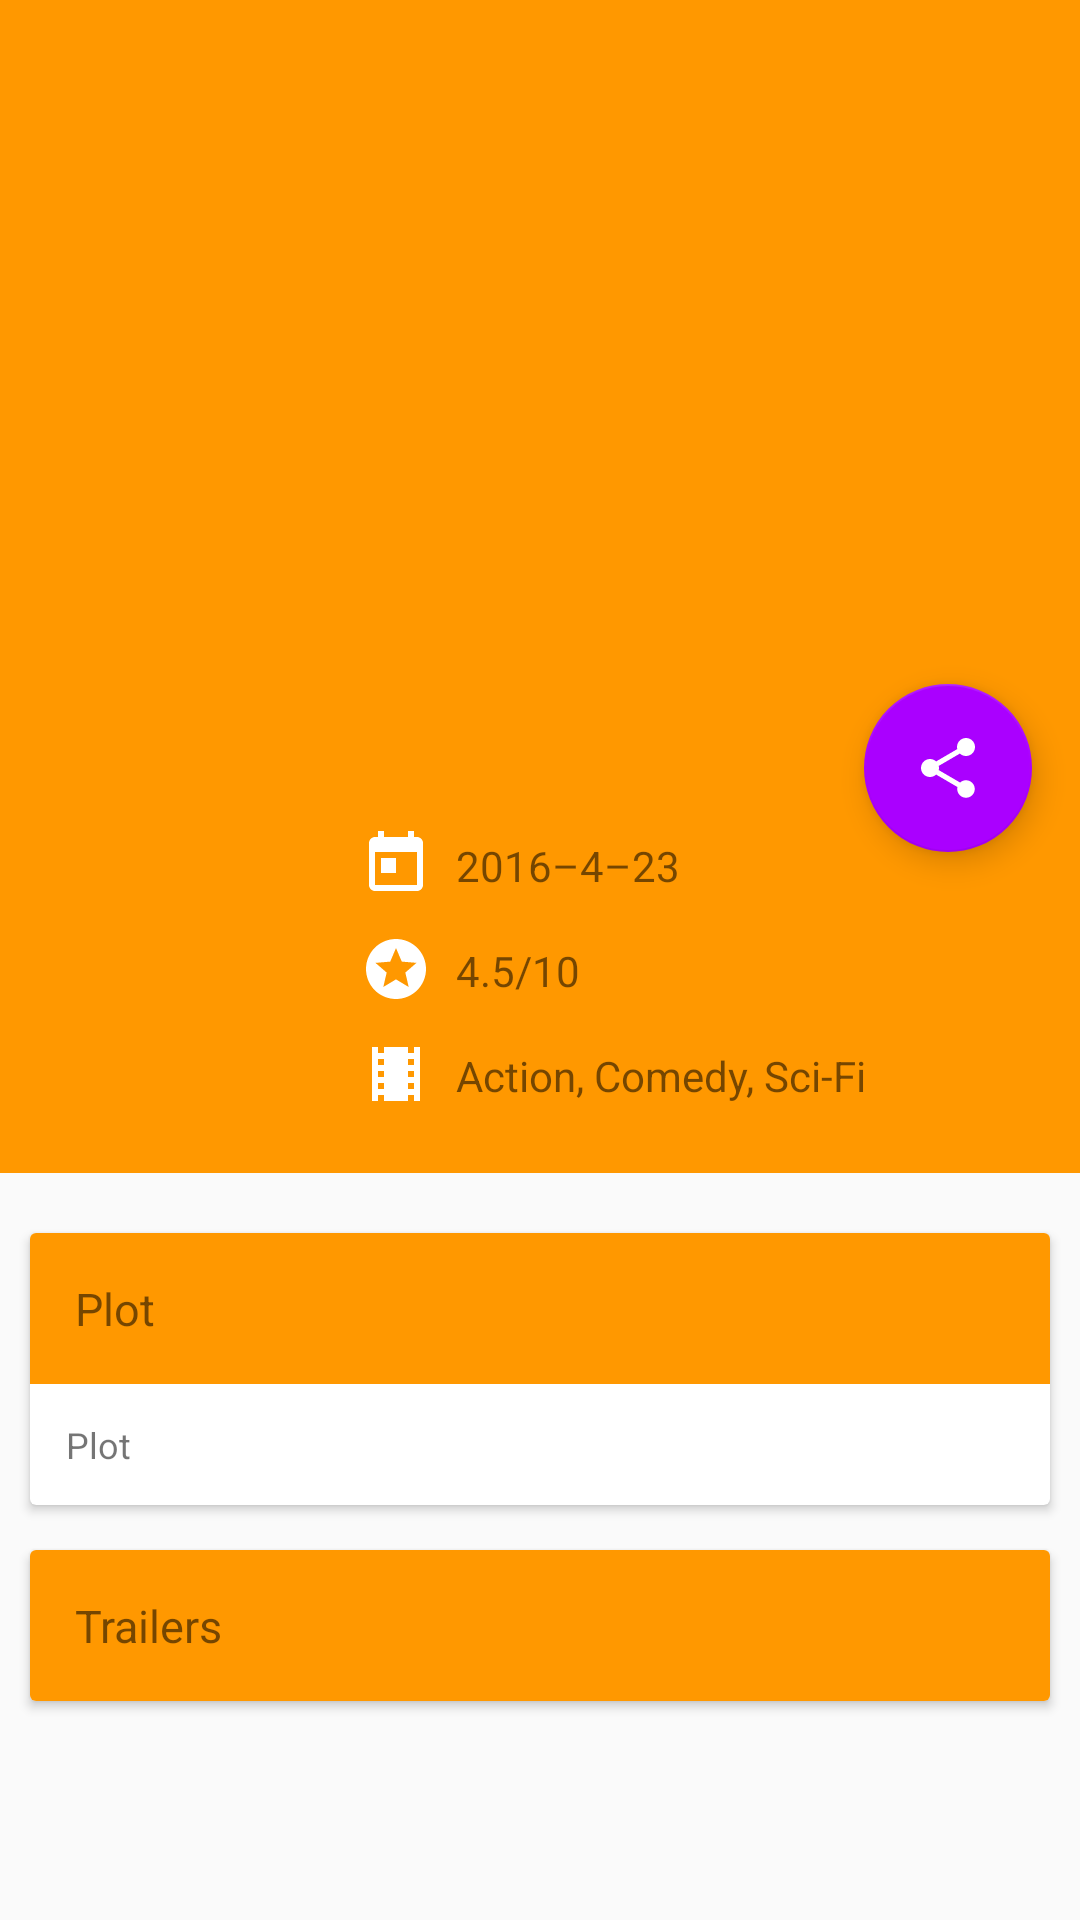

Screen size 1080 × 1920. Icon name, then its box in pixels as (x1, y1, x2, y2):
date: (369, 831, 423, 891)
genre: (372, 1047, 420, 1101)
share: (864, 684, 1032, 852)
star: (366, 939, 426, 999)
